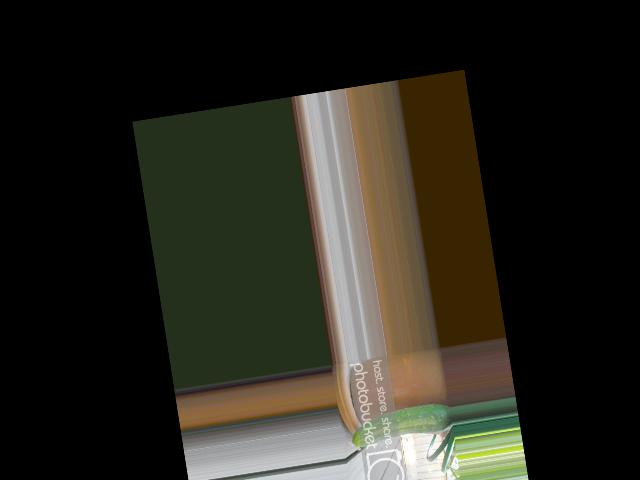cucumber: (343, 401, 453, 449)
